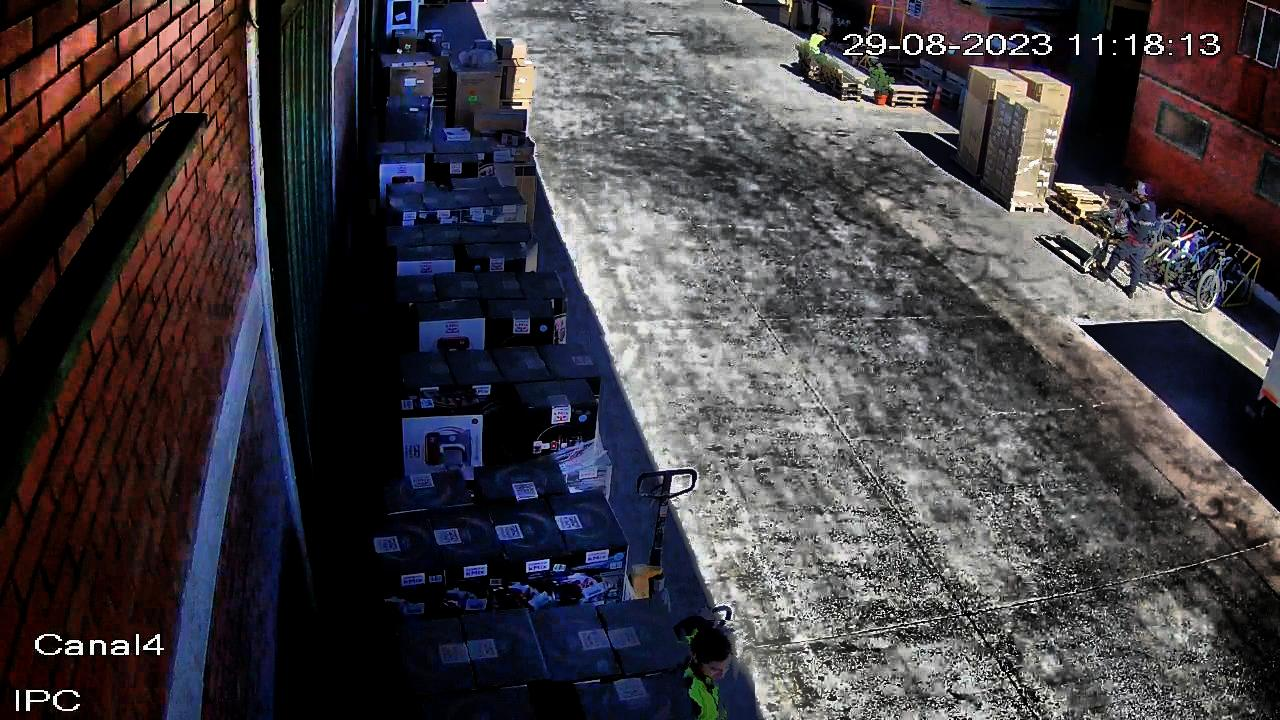con-chaleco: (671, 630, 729, 720), (807, 33, 832, 56)
persona: (1094, 166, 1164, 306), (665, 620, 755, 720), (804, 19, 839, 81)
sin-casco: (683, 621, 744, 690), (1124, 177, 1157, 199), (817, 28, 832, 40)
sin-chaleco: (1124, 197, 1156, 239)
